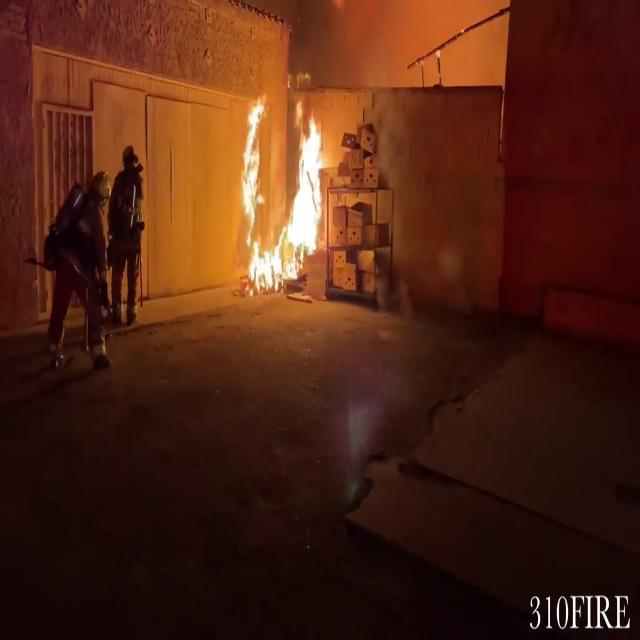Fire: (236, 78, 332, 292)
